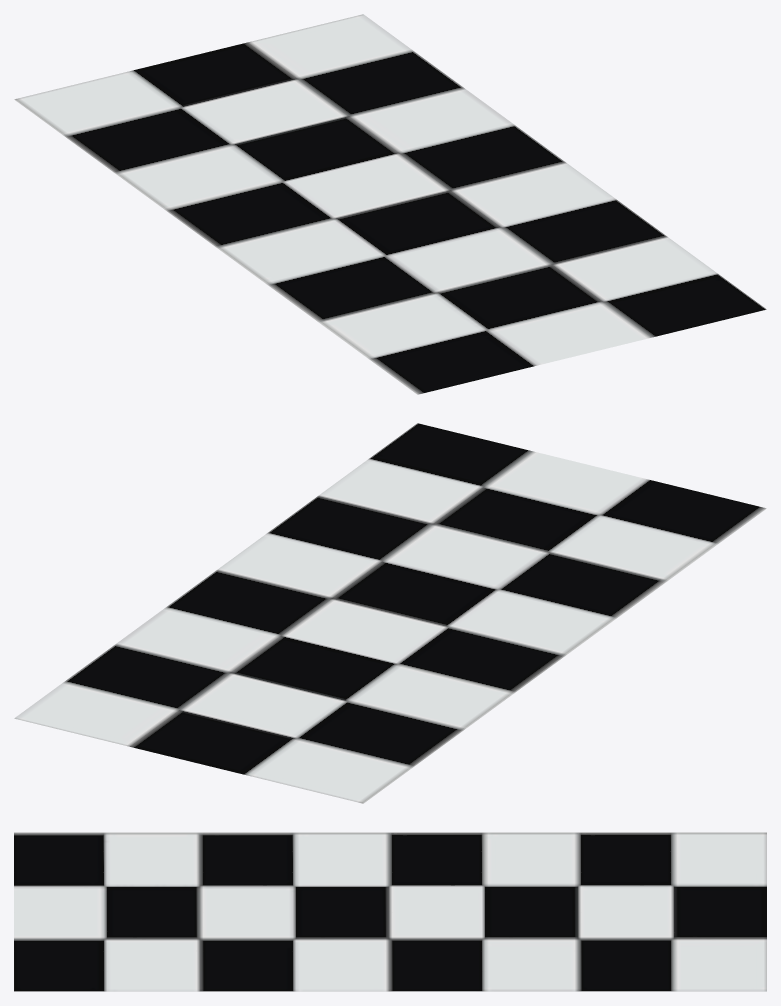
File: DAMIER.fbx
The picture shows the model from 3 angles, top to bottom: view 1: azimuth 30°, elevation 25°; view 2: azimuth 150°, elevation 25°; view 3: azimuth 270°, elevation 25°; orthographic projection. The views are drawn at different scales.
Parts seen in each view (by area): view 1: Plane001; view 2: Plane001; view 3: Plane001.
Boxes of the visible parts, x1,y1,x2,y2 form: Plane001: (14, 14, 766, 394); Plane001: (14, 423, 766, 803); Plane001: (14, 832, 766, 991).
Bounding box in the file's own units: 10 × 20 × 0.
